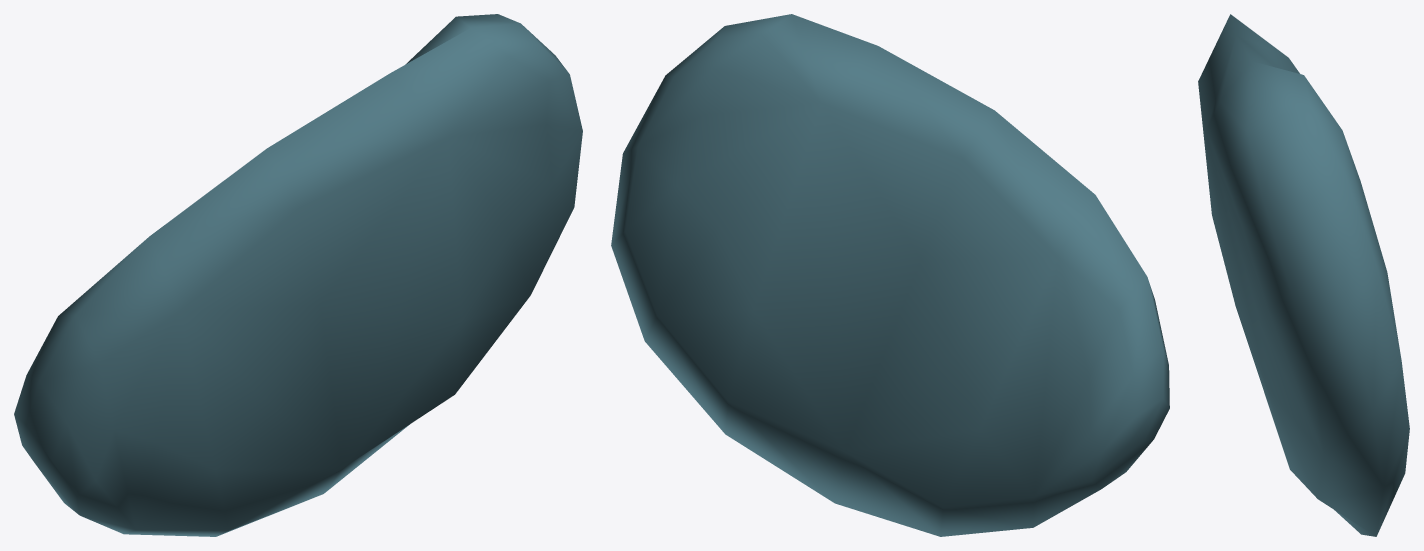
File: Geniohyoid_muscle_mandible_left.glb
3 views of the same model, side by side, from view 1: azimuth 30°, elevation 25°; view 2: azimuth 150°, elevation 25°; view 3: azimuth 270°, elevation 25° (orthographic). The views are drawn at different scales.
Visible parts, largest first — view 1: Geniohyoid_muscle_on_mandible.l_Generated_Mesh_From_X3D.952; view 2: Geniohyoid_muscle_on_mandible.l_Generated_Mesh_From_X3D.952; view 3: Geniohyoid_muscle_on_mandible.l_Generated_Mesh_From_X3D.952.
Part boxes in pixels (bbox=[...]): Geniohyoid_muscle_on_mandible.l_Generated_Mesh_From_X3D.952: bbox=[14, 14, 582, 536]; Geniohyoid_muscle_on_mandible.l_Generated_Mesh_From_X3D.952: bbox=[611, 14, 1169, 536]; Geniohyoid_muscle_on_mandible.l_Generated_Mesh_From_X3D.952: bbox=[1198, 14, 1409, 536].
Size of the model in its own units: 0.00266 by 0.00219 by 0.00078.
